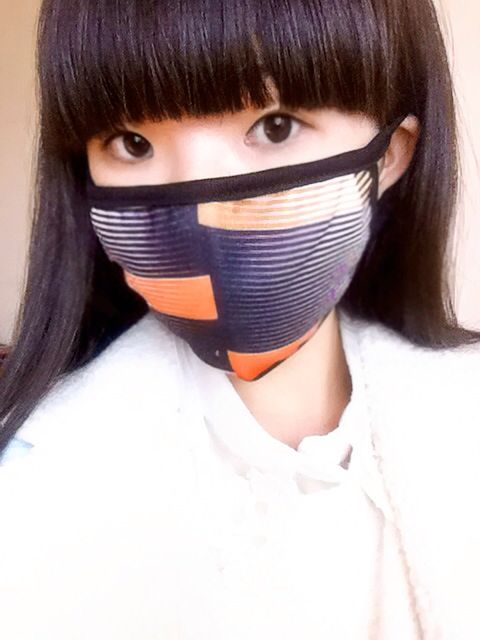face_mask: (78, 0, 370, 381)
